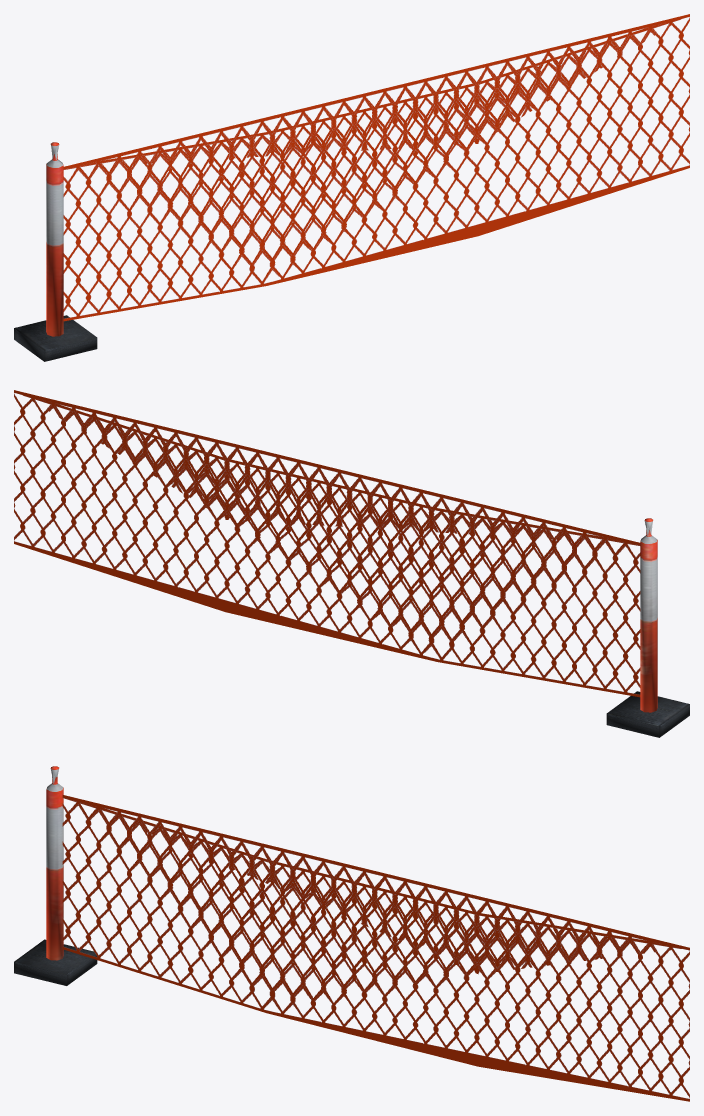
The model's file is orangeFence_sag_2.fbx.
3 views of the same model, one above another, from view 1: azimuth 30°, elevation 25°; view 2: azimuth 150°, elevation 25°; view 3: azimuth 330°, elevation 25° (orthographic).
Visible parts, largest first — view 1: Plane01, Duplicate04, Cylinder02, Box03; view 2: Plane01, Duplicate04, Cylinder02, Box03; view 3: Plane01, Duplicate04, Cylinder02, Box03.
Part boxes in pixels (left/top/right/bottom): Plane01: left=63, top=14, right=689, bottom=321; Duplicate04: left=63, top=16, right=689, bottom=320; Cylinder02: left=46, top=142, right=63, bottom=336; Box03: left=14, top=315, right=97, bottom=361; Plane01: left=14, top=390, right=640, bottom=697; Duplicate04: left=14, top=392, right=640, bottom=696; Cylinder02: left=640, top=518, right=657, bottom=712; Box03: left=606, top=691, right=689, bottom=737; Plane01: left=62, top=795, right=689, bottom=1101; Duplicate04: left=62, top=797, right=687, bottom=1099; Cylinder02: left=46, top=766, right=63, bottom=960; Box03: left=14, top=939, right=97, bottom=985.
Size of the model in its own units: 375 by 109 by 30.
